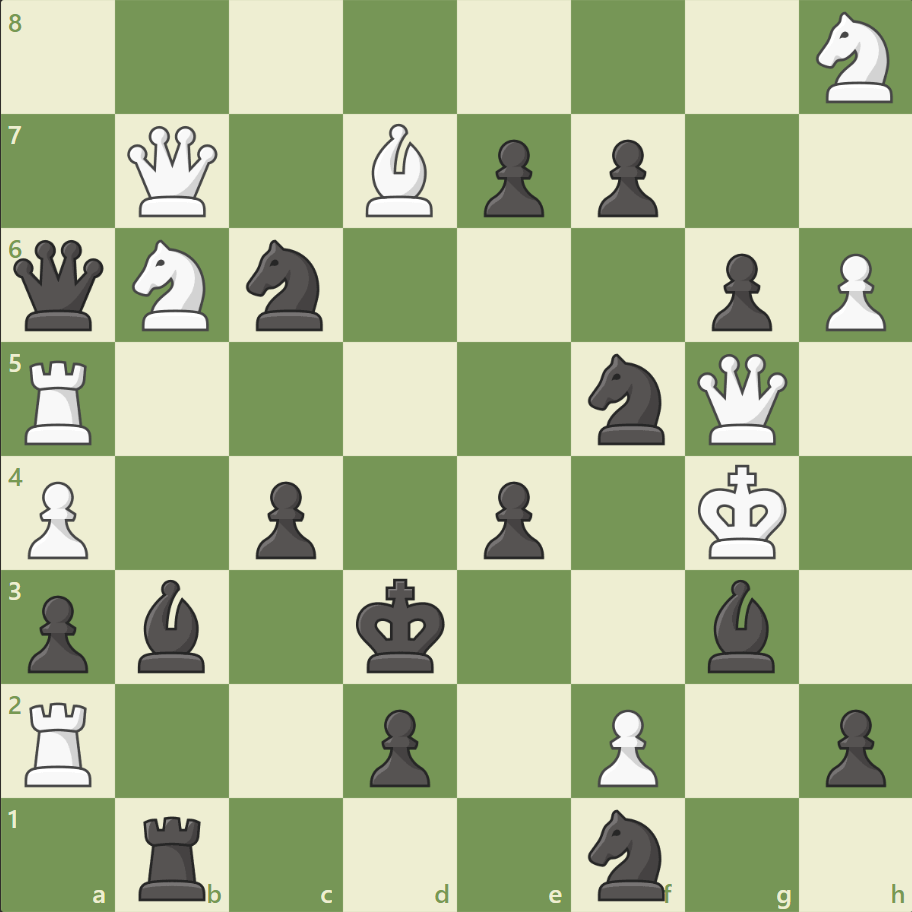B: (358, 120, 442, 222)
K: (692, 458, 792, 566)
N: (124, 234, 222, 337), (806, 7, 903, 110)
P: (20, 473, 95, 564), (815, 246, 889, 337), (588, 700, 662, 791)
Q: (124, 122, 223, 222), (691, 349, 790, 449)
R: (19, 352, 102, 449), (19, 693, 102, 790)
b: (131, 574, 215, 676), (698, 574, 782, 676)
k: (351, 571, 451, 679)
n: (238, 234, 335, 337), (579, 348, 676, 450), (579, 802, 676, 904)
p: (474, 132, 549, 223), (701, 246, 776, 337), (247, 473, 322, 564), (474, 473, 549, 564), (20, 586, 95, 677), (588, 132, 662, 223), (361, 700, 435, 791), (815, 700, 889, 791)
q: (10, 236, 109, 335)
r: (133, 806, 215, 904)
